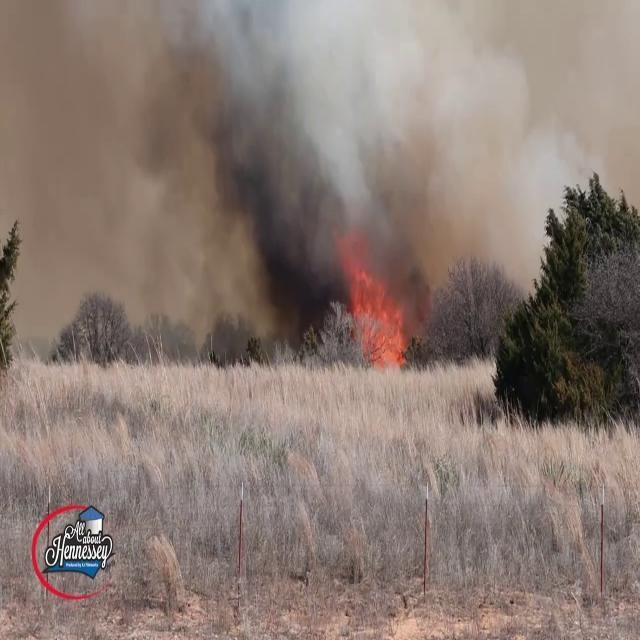Fire: (342, 248, 413, 368)
Smoke: (0, 1, 348, 350), (348, 1, 549, 318)
